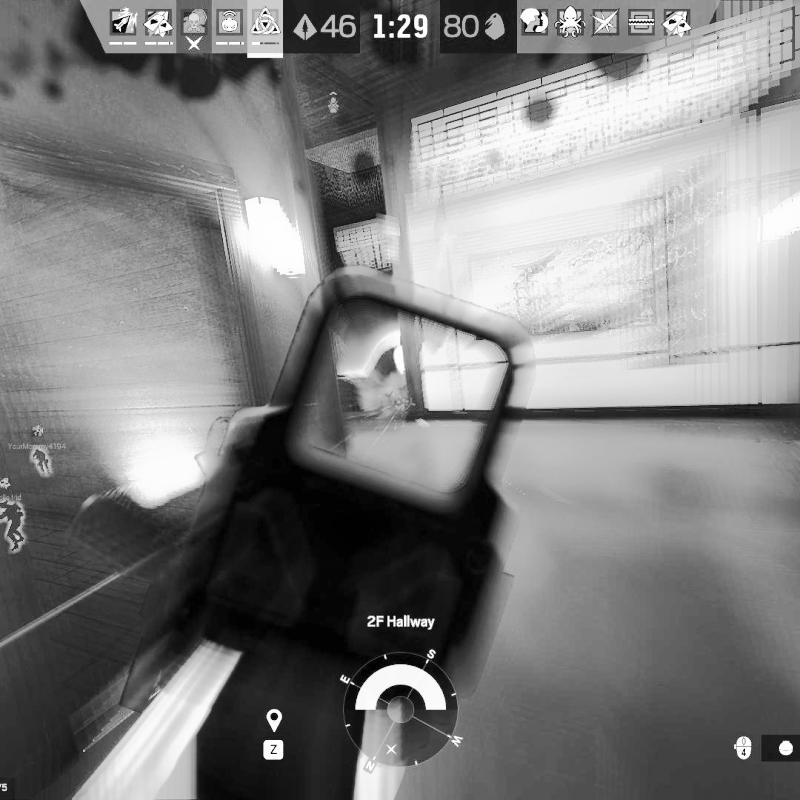Friend_label: (8, 424, 68, 450), (0, 476, 23, 501)
